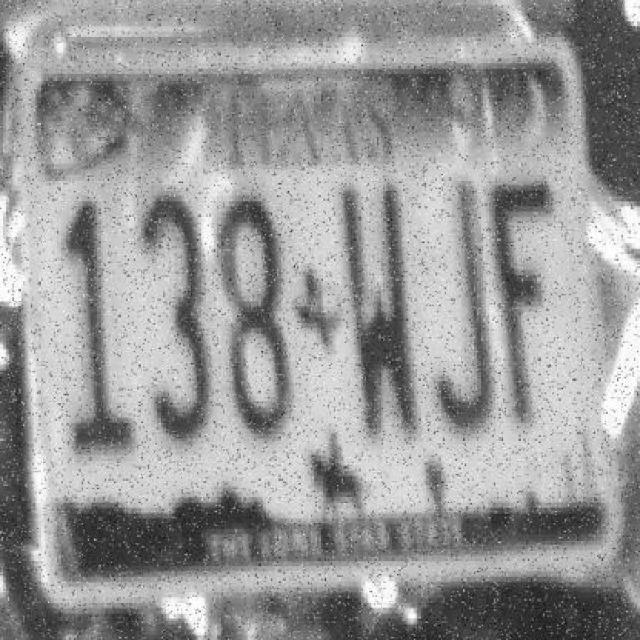licenseplate: (23, 99, 583, 536)
